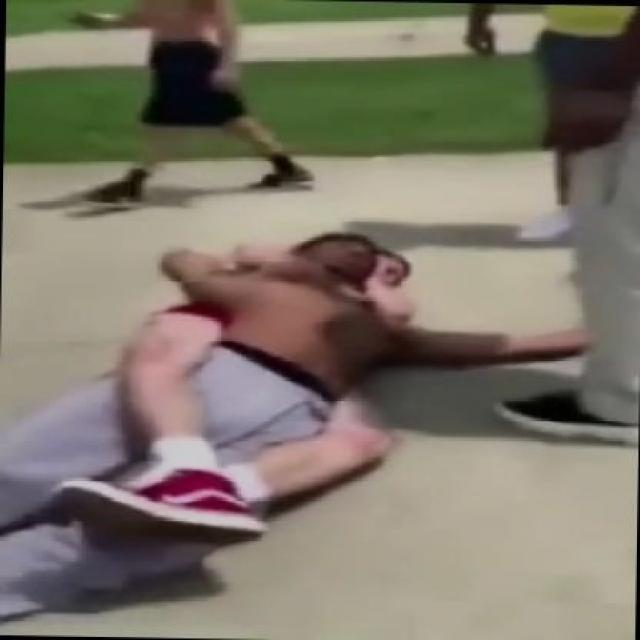fight: (0, 225, 598, 627)
non-fight: (451, 0, 640, 459), (61, 0, 324, 214)
